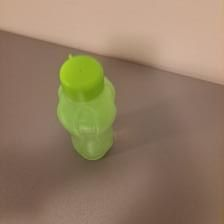bottle: (54, 49, 116, 164)
